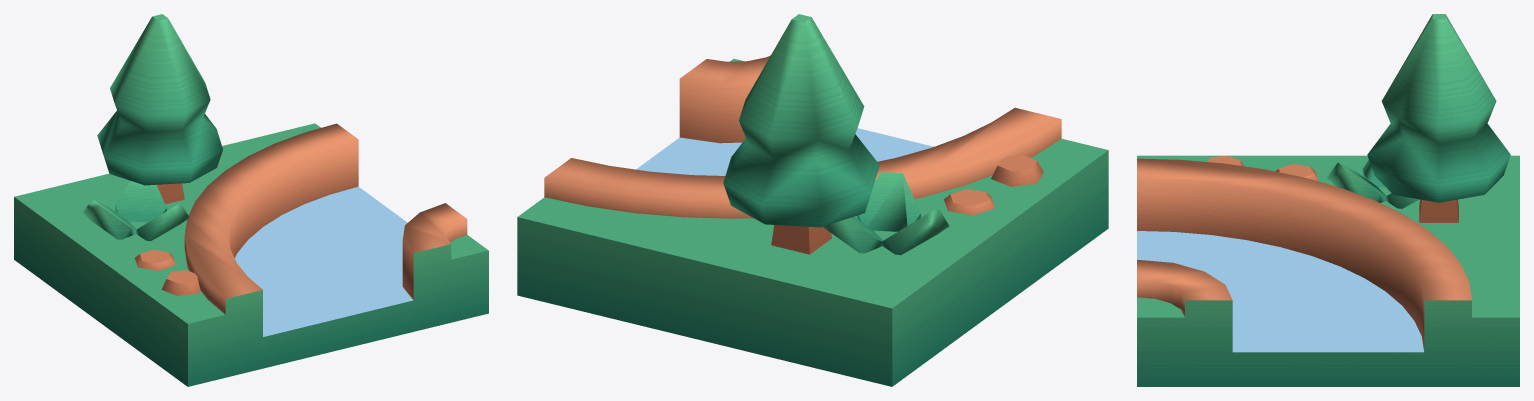
The model's file is tile-river-corner.glb.
The picture shows the model from 3 angles, left to right: view 1: azimuth 30°, elevation 25°; view 2: azimuth 150°, elevation 25°; view 3: azimuth 270°, elevation 25°; orthographic projection. The views are drawn at different scales.
Parts seen in each view (by area): view 1: tile-river-corner; view 2: tile-river-corner; view 3: tile-river-corner.
Boxes of the visible parts, x1,y1,x2,y2 form: tile-river-corner: (14, 14, 488, 386); tile-river-corner: (517, 14, 1108, 386); tile-river-corner: (1137, 14, 1519, 386).
Size of the model in its own units: 1 by 0.77 by 1.
Materials: 1 (1 with a texture image).
